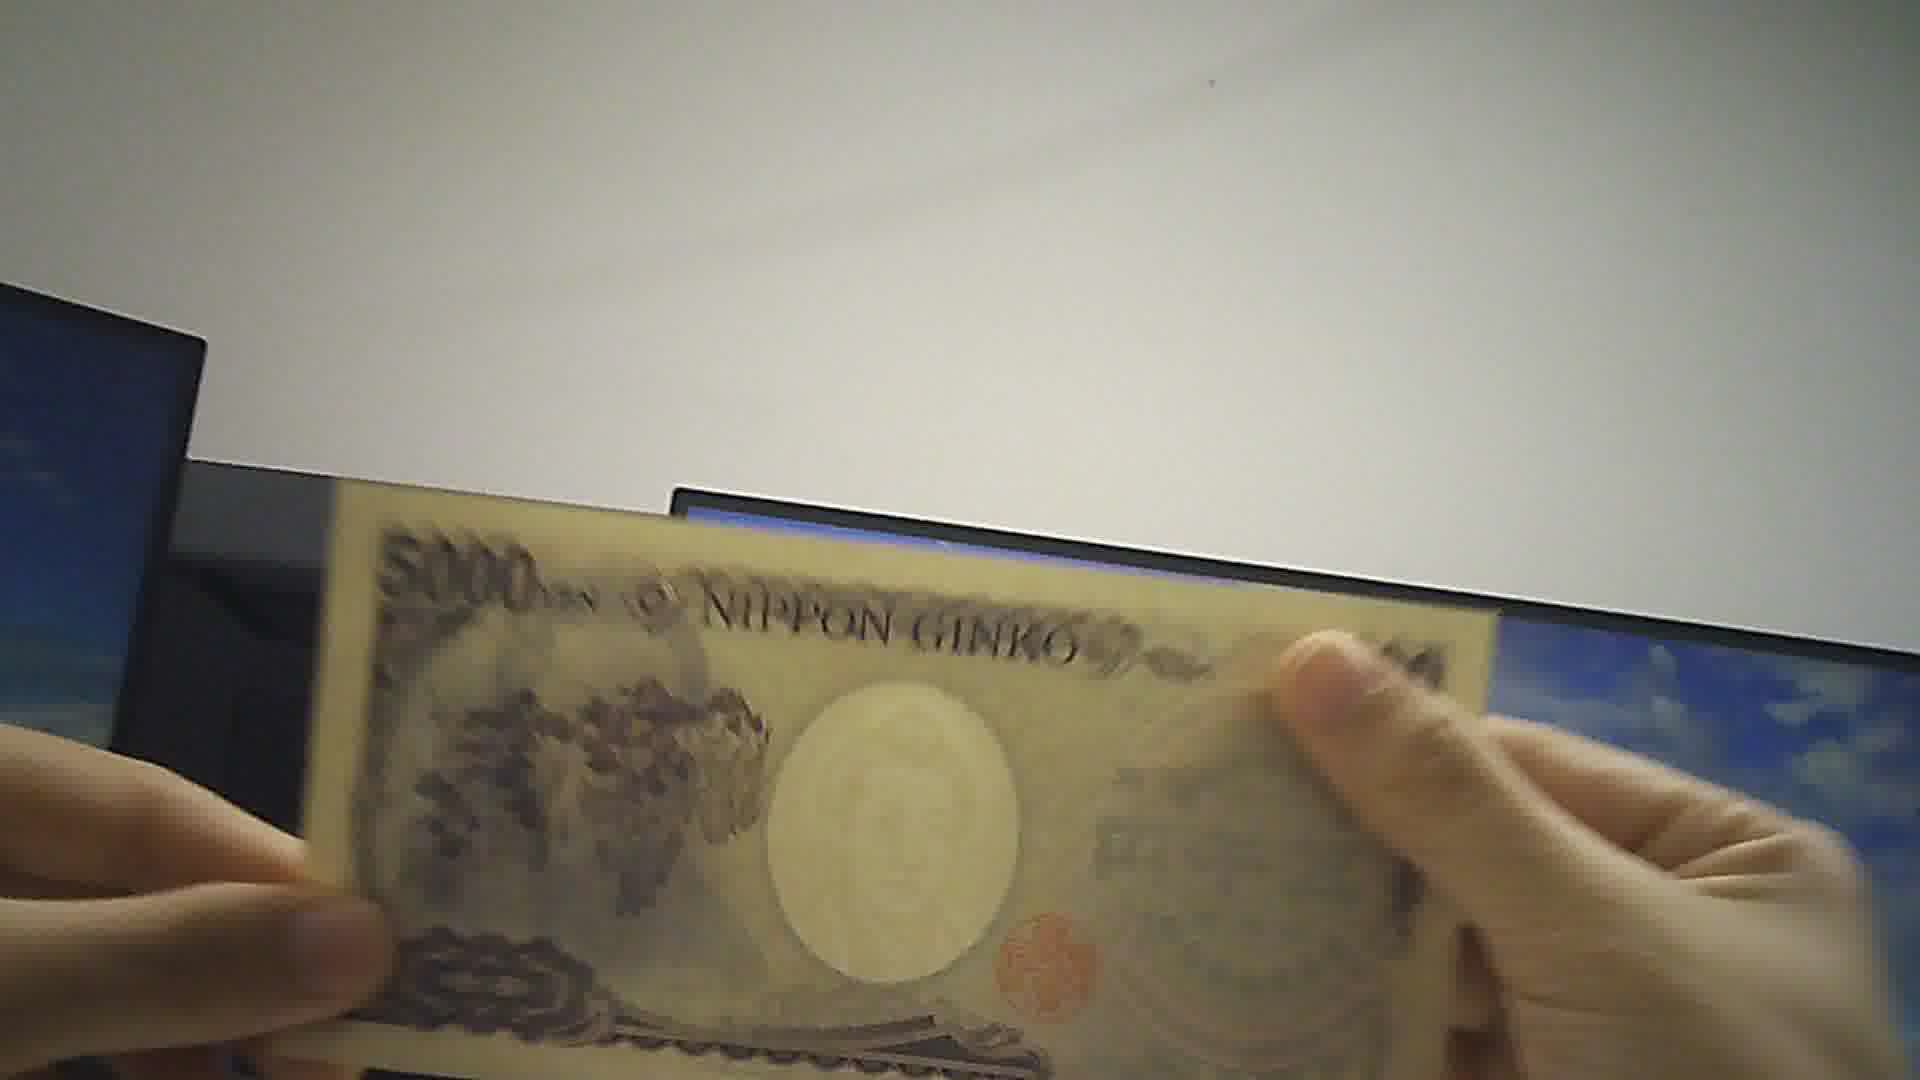5,000 Yen: (316, 469, 1503, 1055)
